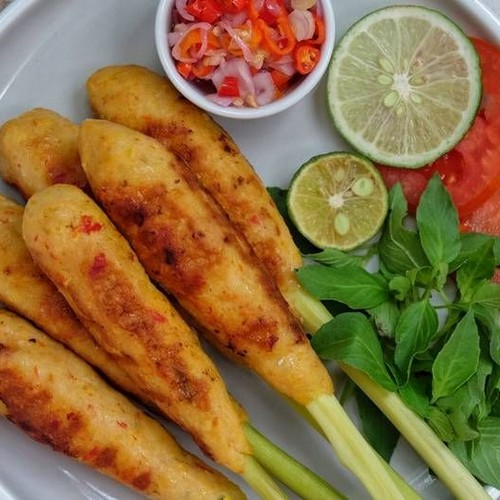sate lilit: (5, 147, 283, 493)
